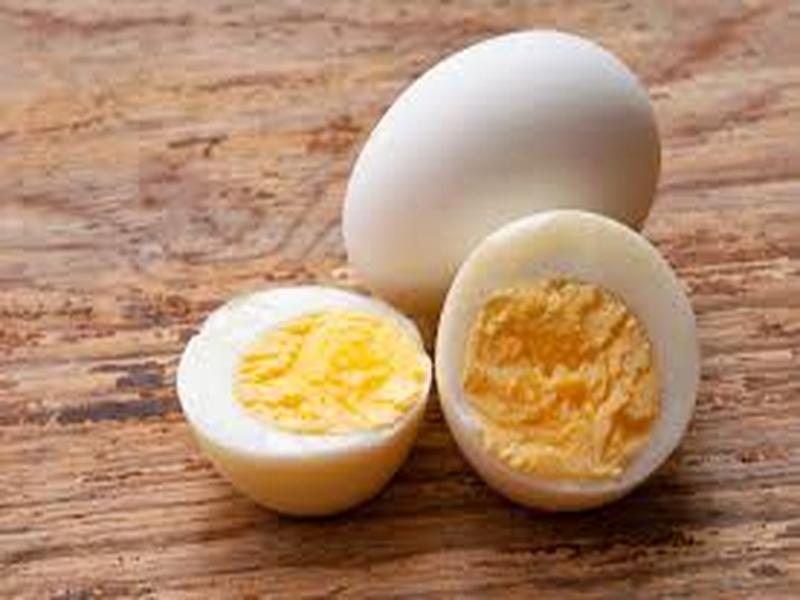egg: (141, 15, 800, 568)
